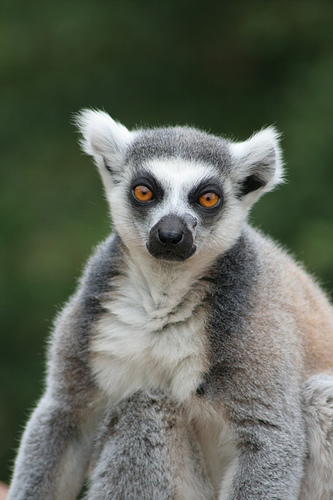cat: (3, 102, 331, 498)
